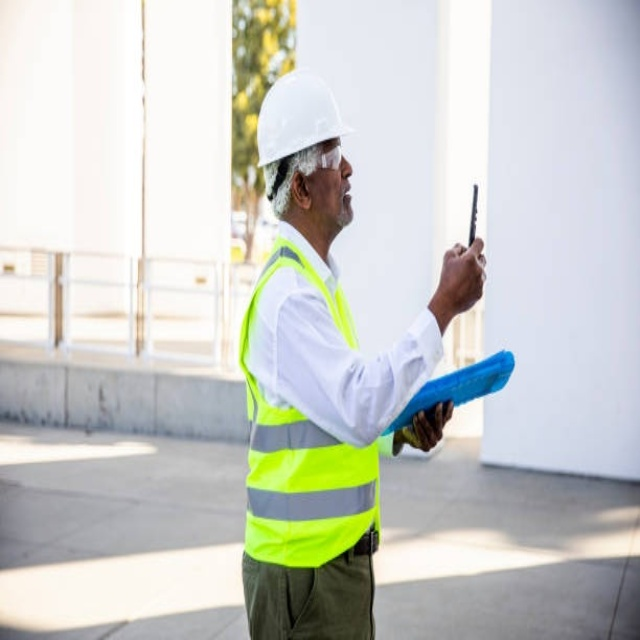Gafas: (302, 142, 343, 171)
Sin_guantes: (437, 234, 490, 315), (401, 398, 453, 453)
Sin_mascara: (328, 173, 357, 218)
